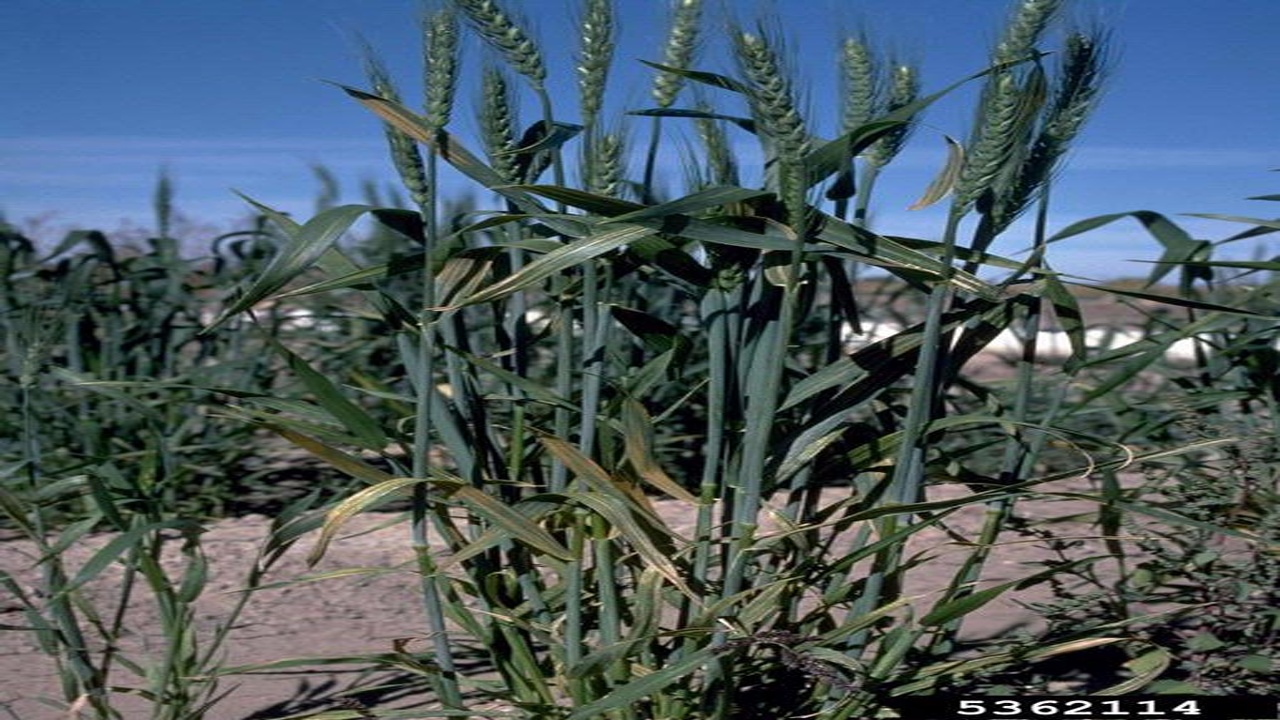stripe_rust: (425, 220, 665, 308), (533, 433, 676, 535), (429, 471, 575, 561), (304, 478, 424, 562), (623, 399, 701, 505)
